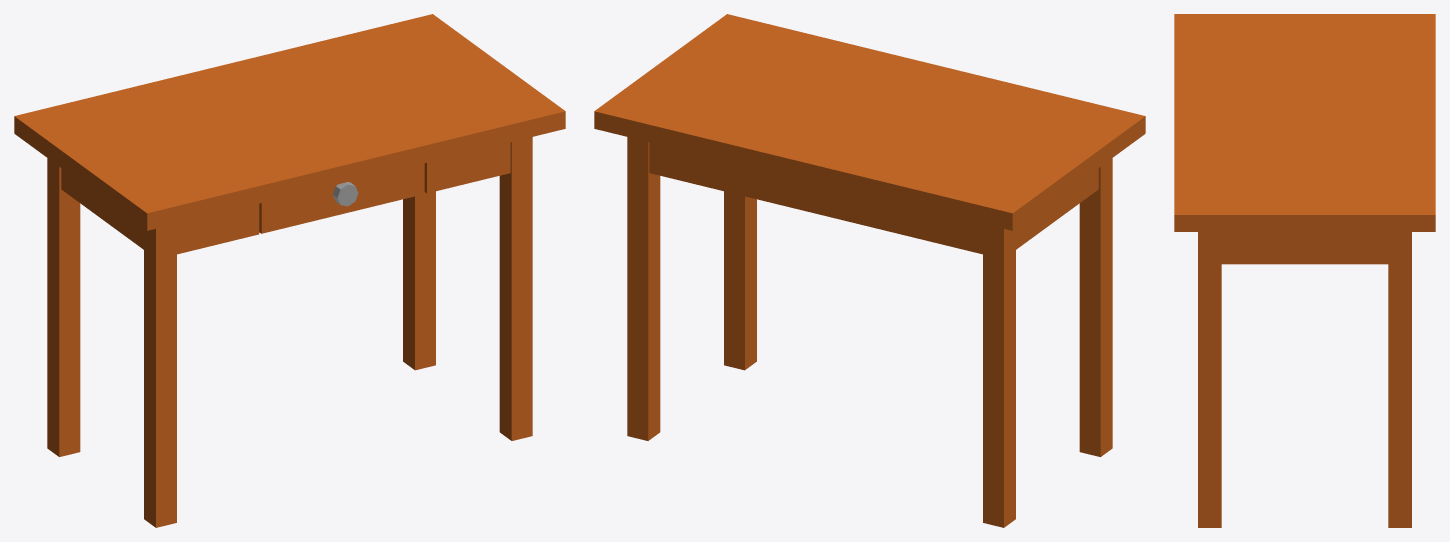
Rendered from SM_Escritorio.glb.
The picture shows the model from 3 angles, left to right: view 1: azimuth 30°, elevation 25°; view 2: azimuth 150°, elevation 25°; view 3: azimuth 270°, elevation 25°; orthographic projection.
Visible parts, largest first — view 1: SM_Superficie, SM_Frente, SM_Frente2, SM_Frente1, SM_Izq; view 2: SM_Superficie, SM_Atras, SM_Izq; view 3: SM_Superficie, SM_Der.
Boxes of the visible parts, x1,y1,x2,y2 form: SM_Superficie: (14, 14, 565, 527); SM_Frente: (259, 163, 424, 233); SM_Frente2: (424, 142, 510, 193); SM_Frente1: (177, 203, 259, 254); SM_Izq: (61, 168, 143, 249); SM_Superficie: (594, 14, 1145, 527); SM_Atras: (649, 142, 982, 254); SM_Izq: (1016, 168, 1098, 249); SM_Superficie: (1174, 14, 1435, 527); SM_Der: (1221, 232, 1388, 264).
Size of the model in its own units: 1 by 0.75 by 0.55.
